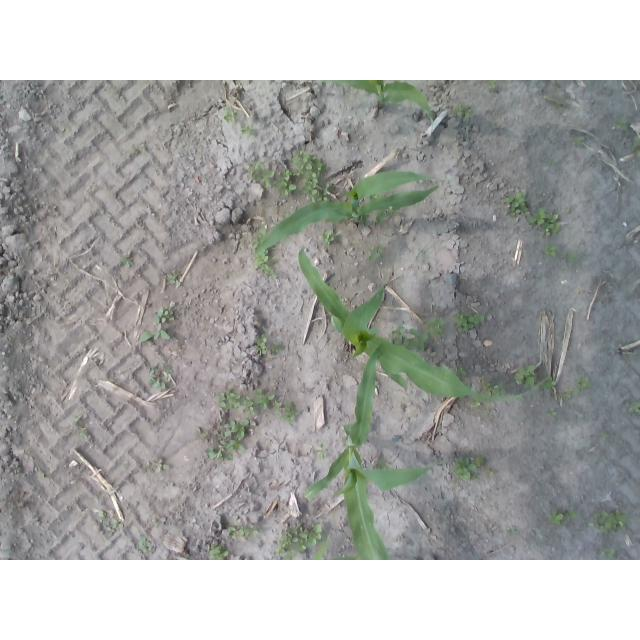Maize: (298, 247, 551, 402), (305, 345, 434, 560), (253, 172, 439, 252), (345, 81, 436, 123)
Weeds: (198, 419, 249, 459), (288, 153, 324, 200), (529, 211, 564, 236), (596, 509, 629, 531), (455, 454, 485, 478), (393, 326, 429, 346), (250, 162, 275, 189), (277, 530, 298, 560), (298, 524, 322, 548), (455, 313, 486, 331), (140, 324, 170, 342), (98, 510, 118, 536), (506, 192, 527, 216), (513, 363, 535, 385), (148, 367, 169, 389), (551, 508, 577, 525), (424, 316, 445, 336), (254, 389, 274, 408), (254, 253, 275, 271), (283, 402, 300, 424), (209, 541, 228, 560), (154, 306, 175, 323), (280, 176, 297, 196), (220, 393, 241, 408), (231, 528, 260, 538), (241, 397, 255, 416), (319, 229, 337, 243), (256, 334, 268, 354), (455, 103, 473, 116), (139, 537, 152, 551), (224, 107, 236, 122), (120, 256, 134, 268), (626, 400, 639, 412), (483, 384, 497, 395), (577, 377, 589, 389), (617, 118, 628, 131), (317, 445, 327, 459), (564, 252, 581, 260), (271, 344, 286, 353), (156, 461, 169, 471), (605, 544, 615, 557), (169, 273, 180, 284), (545, 248, 555, 257), (487, 80, 497, 88), (74, 414, 83, 422), (243, 127, 253, 134), (564, 390, 573, 397), (547, 381, 555, 388), (547, 409, 555, 416), (575, 139, 582, 146)
